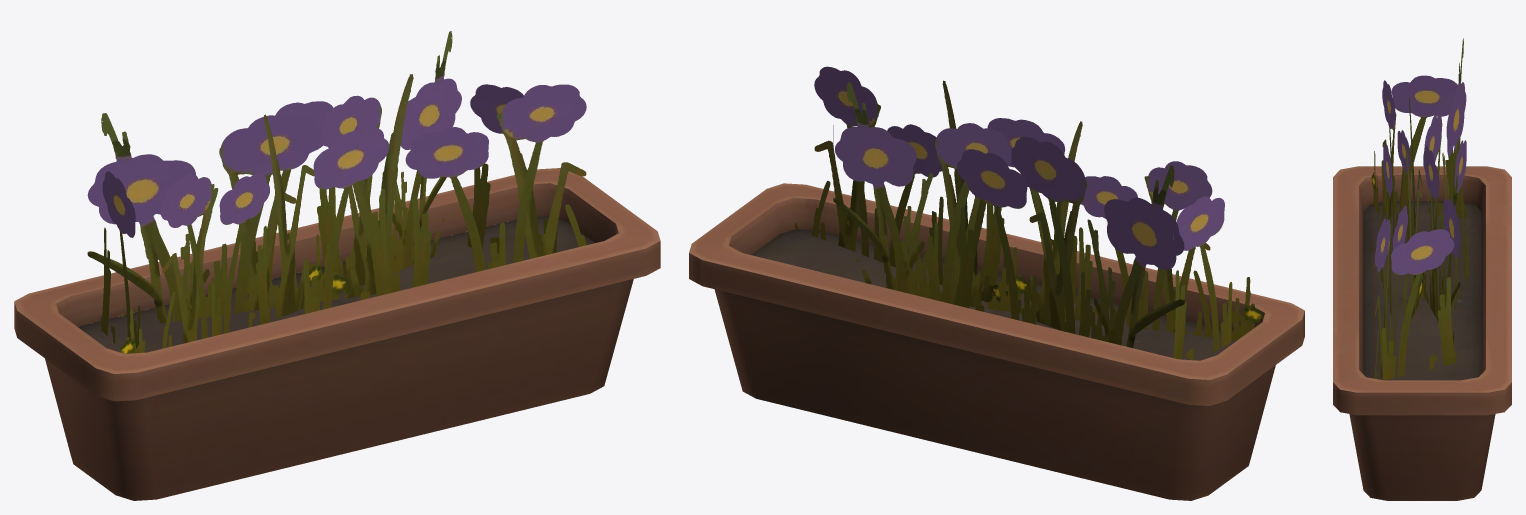
The picture shows the model from 3 angles, left to right: view 1: azimuth 30°, elevation 25°; view 2: azimuth 150°, elevation 25°; view 3: azimuth 270°, elevation 25°; orthographic projection. The views are drawn at different scales.
Visible parts, largest first — view 1: body0_model0_lod0_mesh0; view 2: body0_model0_lod0_mesh0; view 3: body0_model0_lod0_mesh0.
Boxes of the visible parts, bbox=[...] form: body0_model0_lod0_mesh0: bbox=[14, 31, 660, 500]; body0_model0_lod0_mesh0: bbox=[689, 66, 1304, 500]; body0_model0_lod0_mesh0: bbox=[1333, 38, 1511, 500].
Bounding box in the file's own units: 49.97 × 30.55 × 16.69.
Materials: 1 (1 with a texture image).
